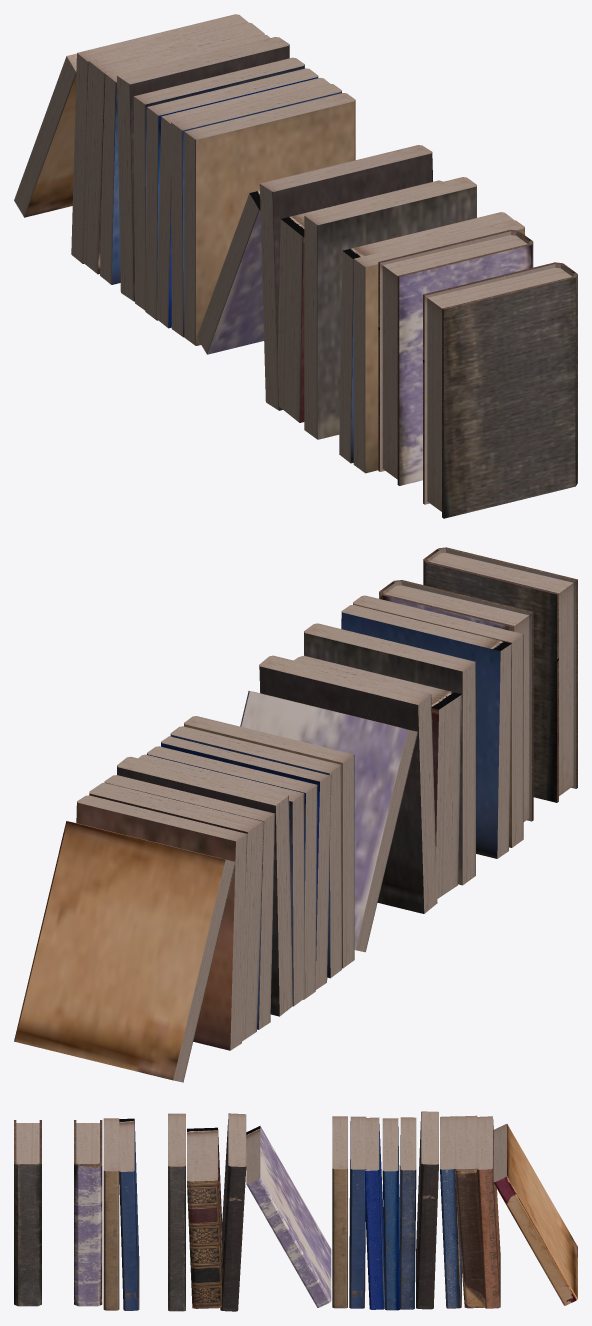
The model's file is books.fbx.
The picture shows the model from 3 angles, top to bottom: view 1: azimuth 30°, elevation 25°; view 2: azimuth 150°, elevation 25°; view 3: azimuth 270°, elevation 25°; orthographic projection. The views are drawn at different scales.
Visible parts, largest first — view 1: book2, Object006, book, Object003, Object005, Object011, Object001, Object013, books, books.001, Object004, Object007 (+6 smaller); view 2: books.001, book2, Object005, books, Object002, Object014, Object003, Object011, Object004, Object013, book, Object006 (+6 smaller); view 3: books, books.001, Object004, book, book2, Object013, Object005, Object011, Object003, Object014, Object002, Object001 (+6 smaller).
Boxes of the visible parts, x1,y1,x2,y2 form: book2: (423,262,577,518); Object006: (184,93,355,345); book: (378,229,533,485); Object003: (304,177,476,439); Object005: (259,145,432,410); Object011: (117,37,289,301); Object001: (353,220,524,473); Object013: (81,22,264,274); books: (197,190,263,354); books.001: (14,53,76,217); Object004: (277,180,442,422); Object007: (171,83,341,337); books.001: (14,821,235,1082); book2: (423,547,577,802); Object005: (259,655,437,913); books: (240,691,417,952); Object002: (341,605,511,858); Object014: (76,795,247,1050); Object003: (304,623,475,885); Object011: (117,756,292,1016); Object004: (294,655,461,900); Object013: (89,782,264,1042); book: (379,580,533,821); Object006: (184,716,354,968); books: (246,1126,331,1307); books.001: (493,1124,577,1305); Object004: (187,1127,222,1308); book: (74,1120,102,1306); book2: (14,1120,41,1306); Object013: (455,1115,485,1308); Object005: (220,1113,246,1311); Object011: (416,1111,438,1309); Object003: (168,1113,185,1311); Object014: (477,1116,500,1308); Object002: (119,1118,139,1310); Object001: (103,1118,119,1310).
Bounding box in the file's own units: 25.73 × 33.38 × 116.
Materials: 1 (1 with a texture image).
